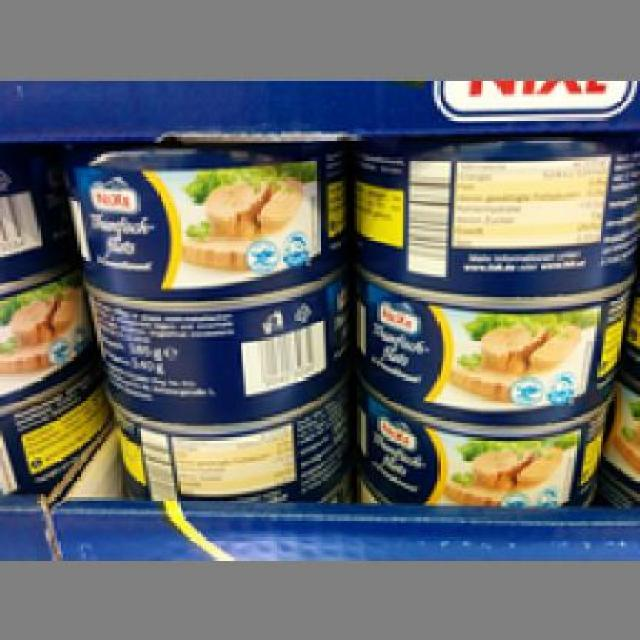Fish: (348, 134, 638, 300), (343, 266, 637, 426), (56, 145, 350, 298), (70, 280, 347, 423), (348, 380, 608, 503)
